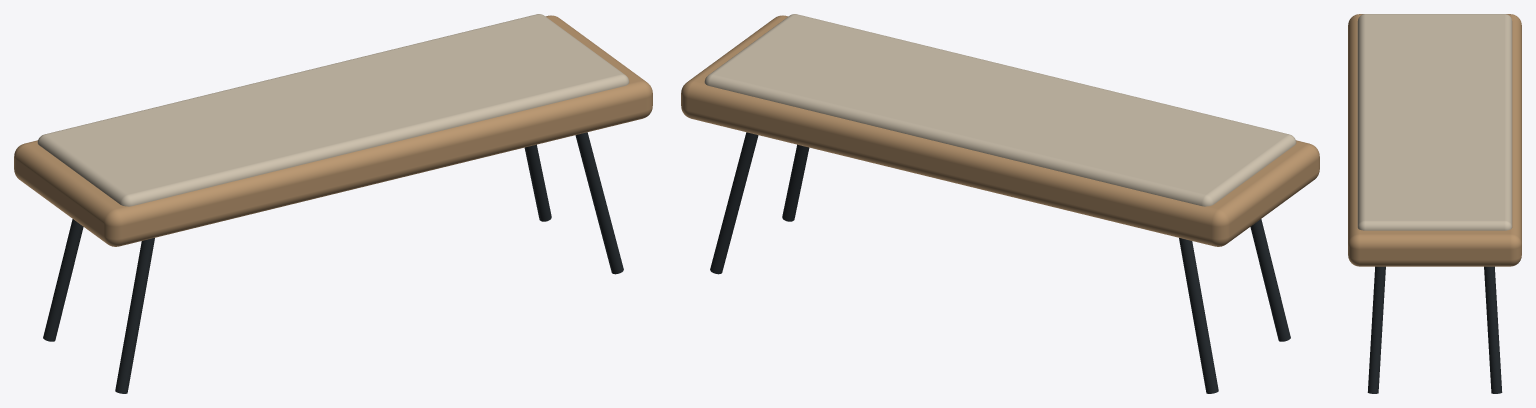
The model's file is bench-1.glb.
3 renders of one model, left to right at view 1: azimuth 30°, elevation 25°; view 2: azimuth 150°, elevation 25°; view 3: azimuth 270°, elevation 25°, orthographic. The views are drawn at different scales.
Parts seen in each view (by area): view 1: bench:1:archviz; view 2: bench:1:archviz; view 3: bench:1:archviz.
Boxes of the visible parts, bbox=[...] form: bench:1:archviz: bbox=[14, 14, 652, 393]; bench:1:archviz: bbox=[681, 14, 1319, 393]; bench:1:archviz: bbox=[1348, 14, 1521, 393].
Bounding box in the file's own units: 1.4 × 0.4933 × 0.45.
